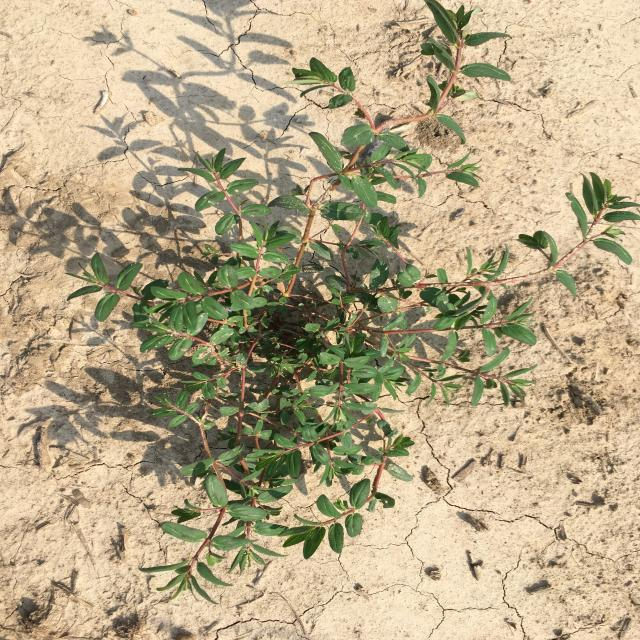SpottedSpurge: (65, 0, 640, 605)
